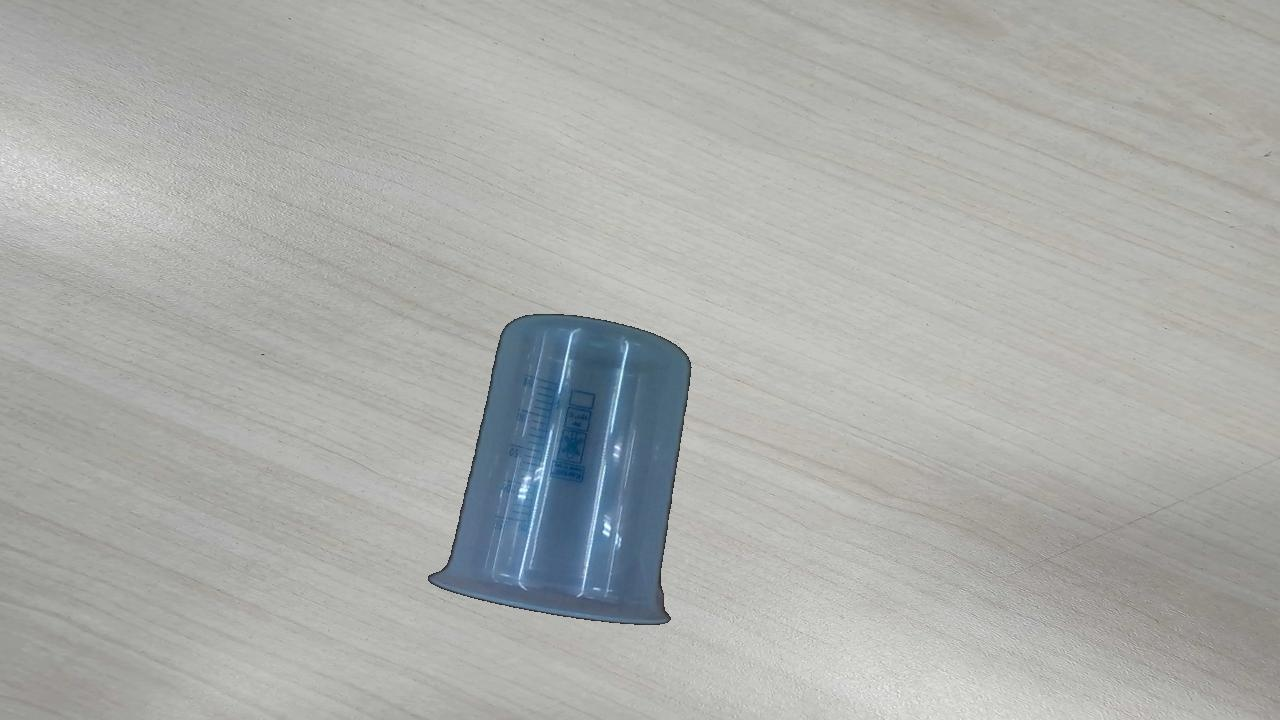cup: (427, 313, 692, 626)
